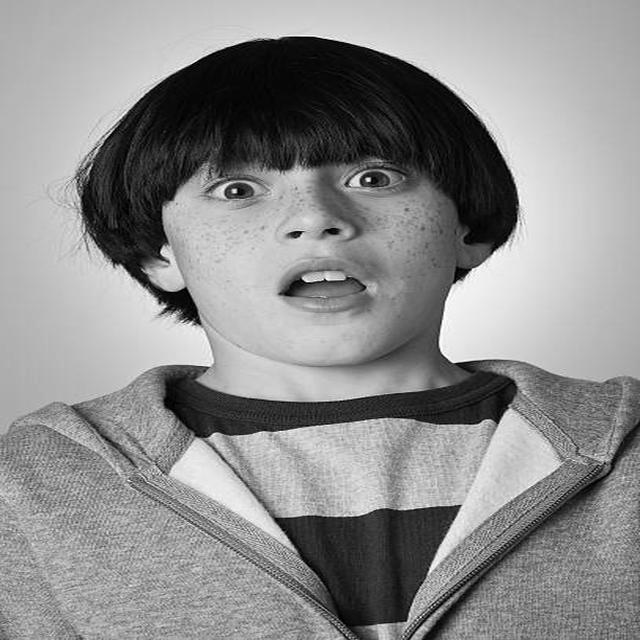Fear: (163, 133, 458, 366)
